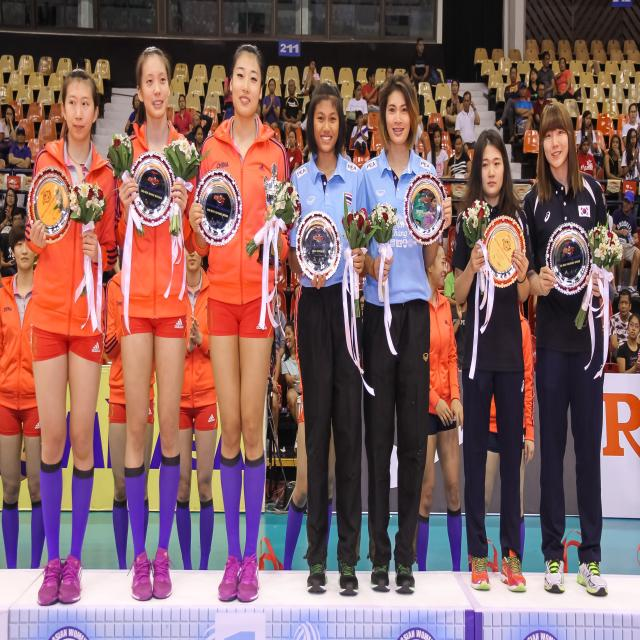body: (188, 39, 292, 610), (22, 66, 118, 608), (358, 69, 454, 600), (114, 43, 202, 604), (523, 96, 611, 602), (288, 76, 367, 607), (449, 125, 534, 598), (7, 2, 430, 42), (0, 218, 47, 570), (104, 248, 155, 571), (416, 240, 464, 574), (282, 283, 336, 573), (487, 295, 535, 588), (176, 246, 218, 571), (610, 189, 640, 296), (281, 320, 303, 429), (494, 65, 523, 144), (447, 133, 473, 220), (0, 206, 26, 280), (266, 327, 281, 455), (345, 81, 368, 161), (603, 131, 624, 218), (609, 288, 633, 364), (621, 127, 640, 216), (576, 109, 601, 175), (454, 91, 480, 154), (450, 296, 471, 372), (616, 313, 640, 374), (514, 82, 535, 146), (282, 78, 303, 138), (410, 37, 432, 92), (9, 126, 32, 177), (426, 127, 448, 178), (445, 78, 464, 134), (273, 282, 287, 358), (262, 77, 281, 130), (553, 57, 574, 103), (577, 134, 597, 180), (297, 58, 320, 98), (621, 102, 640, 150), (351, 111, 369, 161), (173, 93, 193, 138), (187, 112, 212, 146), (537, 51, 555, 98), (0, 187, 18, 234), (533, 80, 551, 126), (286, 130, 303, 176), (361, 67, 379, 106), (410, 78, 425, 124), (2, 104, 19, 142), (124, 93, 140, 133), (413, 123, 429, 161), (444, 269, 457, 308), (356, 281, 368, 322), (526, 67, 540, 100), (304, 84, 316, 120), (223, 76, 235, 112), (285, 115, 310, 132), (288, 270, 300, 304), (378, 66, 393, 93), (0, 244, 9, 286), (193, 124, 204, 156), (114, 243, 122, 283), (636, 97, 640, 162), (530, 297, 537, 334), (0, 116, 6, 145), (134, 108, 142, 125), (77, 58, 86, 71), (170, 121, 180, 132), (402, 66, 410, 79), (404, 70, 412, 82)
